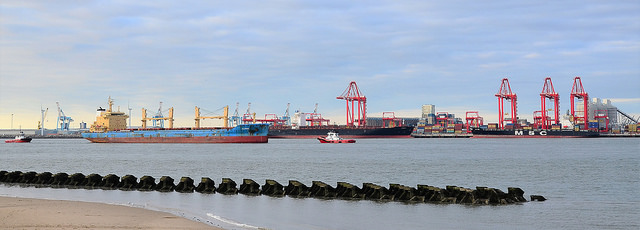bulk carrier: (81, 105, 273, 143)
container_ship: (269, 111, 416, 140), (469, 114, 588, 136)
tug_boat: (316, 126, 360, 145), (5, 126, 34, 144)
